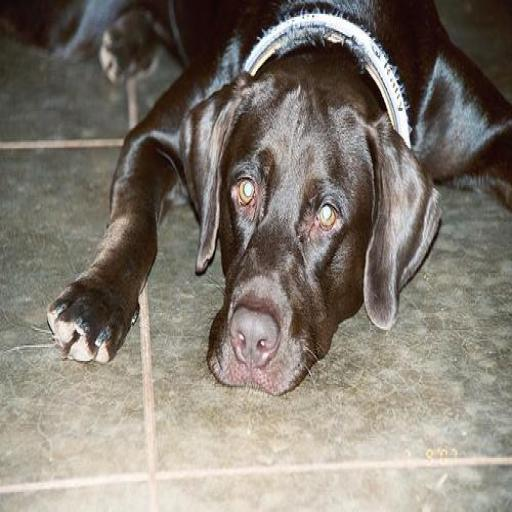dog_face: (196, 90, 415, 400)
